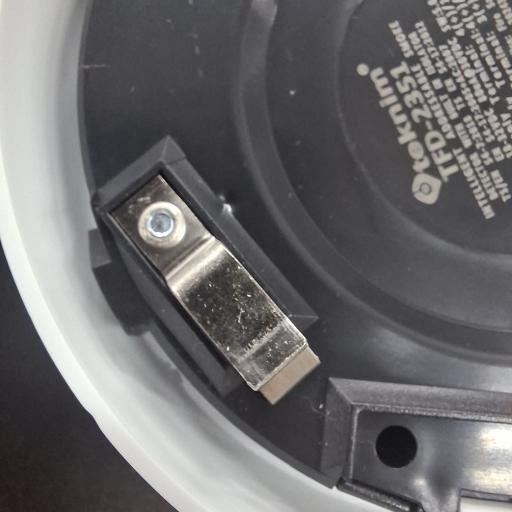yayli: (104, 164, 319, 403)
